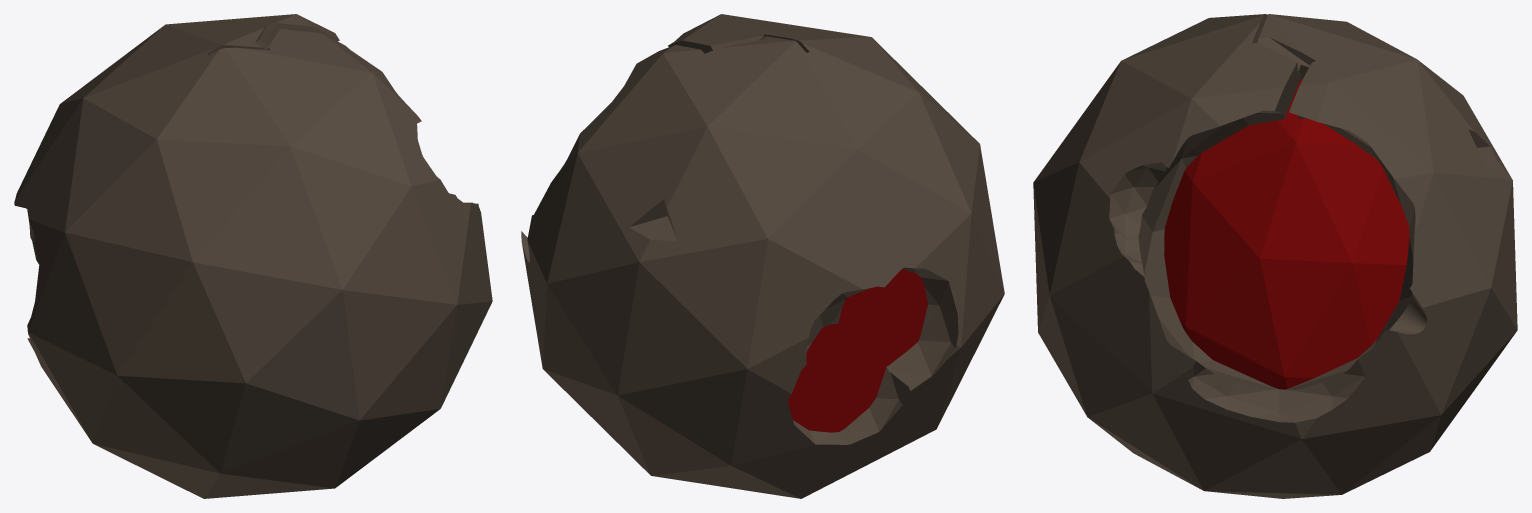
File: dying_planet.gltf
3 renders of one model, left to right at view 1: azimuth 30°, elevation 25°; view 2: azimuth 150°, elevation 25°; view 3: azimuth 270°, elevation 25°, orthographic. The views are drawn at different scales.
Parts seen in each view (by area): view 1: base; view 2: base, Cube; view 3: base, core.
Part boxes in pixels (left/top/right/bottom): base: left=14, top=14, right=492, bottom=498; base: left=521, top=14, right=1004, bottom=498; Cube: left=788, top=269, right=927, bottom=432; base: left=1033, top=14, right=1517, bottom=498; core: left=1164, top=79, right=1409, bottom=389.
Size of the model in its own units: 10.65 by 10.97 by 10.61.
